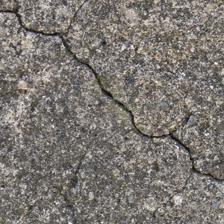Crack: (10, 11, 169, 140), (163, 130, 221, 184)
